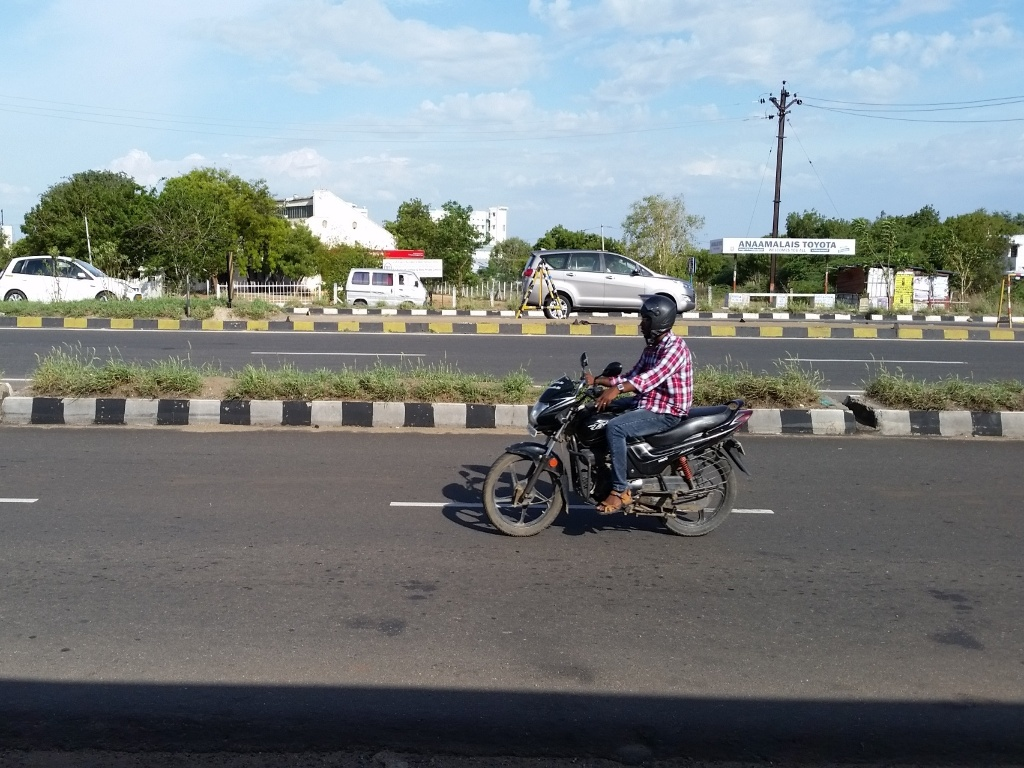biker: (455, 258, 785, 556)
helmet: (627, 281, 695, 355)
